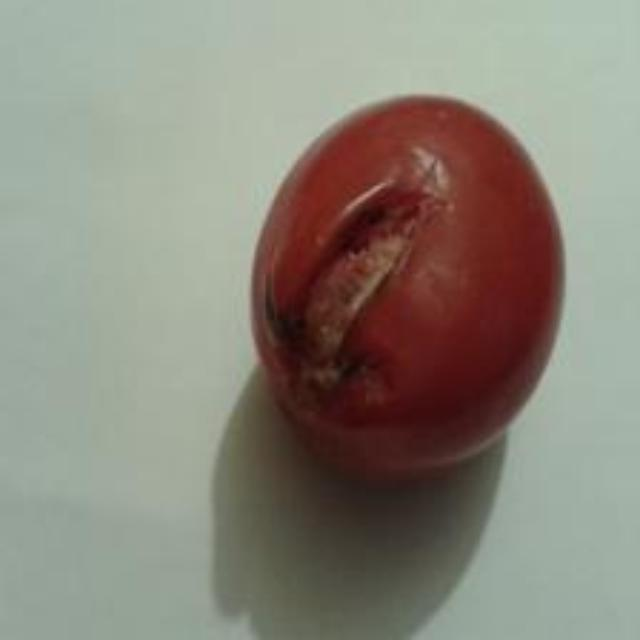defect: (246, 86, 569, 485)
